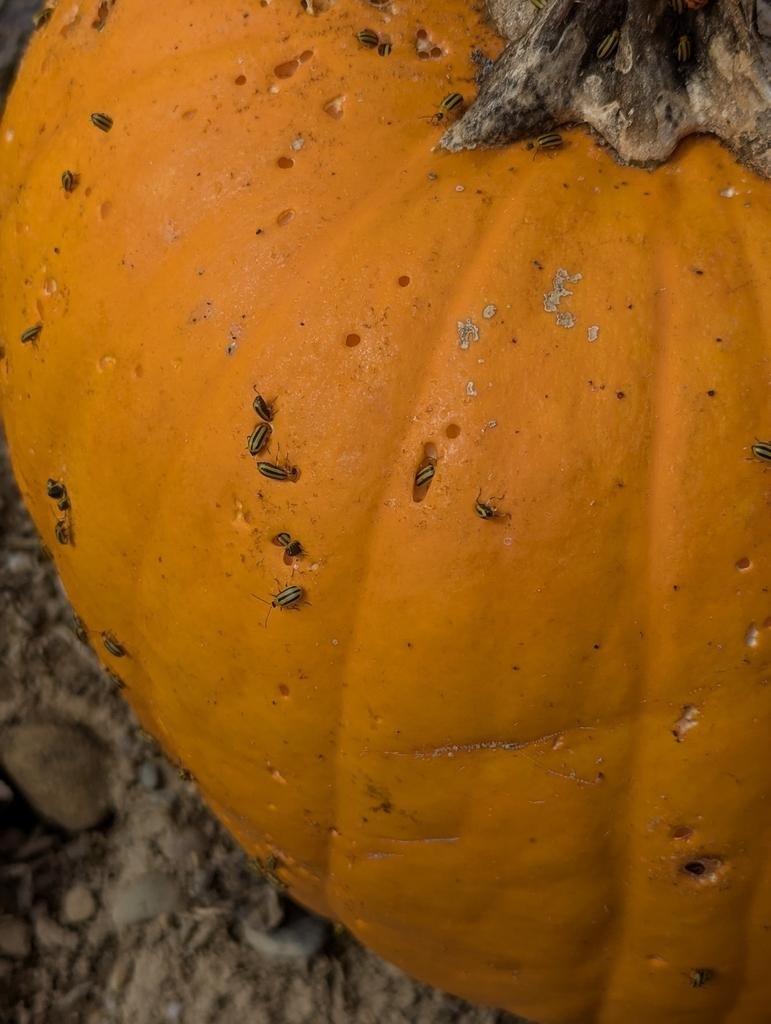potato_beetle: (244, 572, 325, 633), (245, 450, 305, 495), (233, 410, 283, 461)
